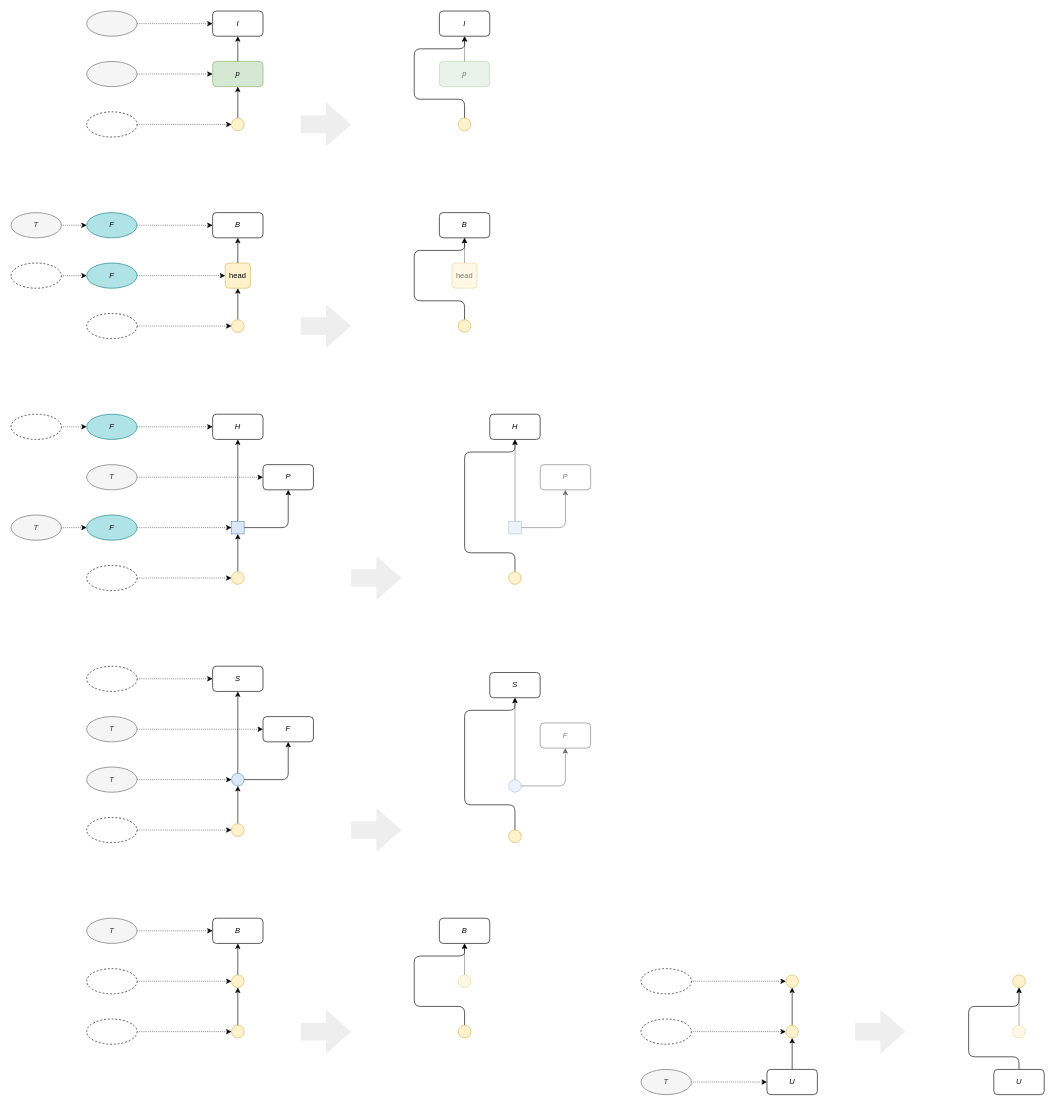
Image size: 1055x1106. Some labels were removed from this diagram. The box of each missing label's shape, as (x1, y1, x2, y2) in pixels:
T 1: (86, 10, 137, 36)
T 2: (86, 61, 137, 87)
